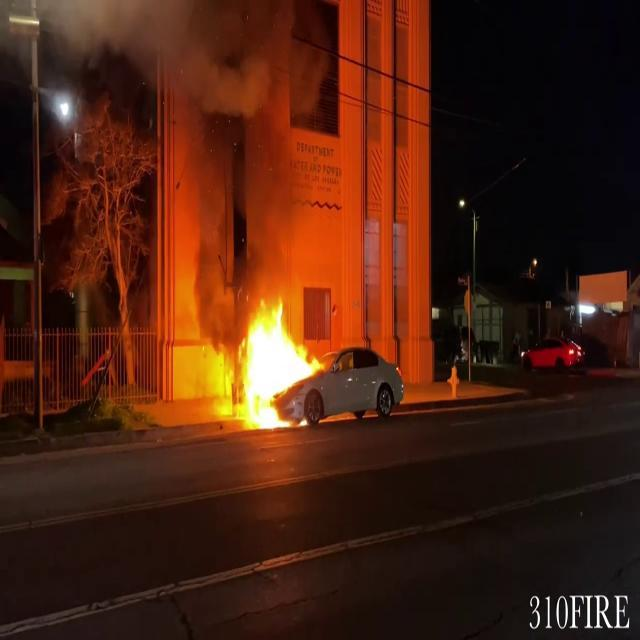Fire: (228, 290, 316, 428)
Smoke: (162, 0, 306, 274)
